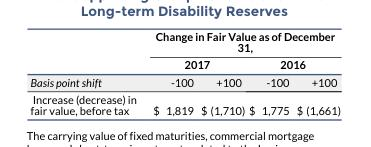table: (29, 29, 339, 116)
table column: (29, 29, 144, 116), (144, 29, 196, 116), (196, 29, 246, 116), (292, 29, 339, 116), (246, 29, 292, 116)
table column header: (29, 29, 339, 89)
table row: (29, 89, 339, 116), (29, 29, 339, 55), (29, 55, 339, 72), (29, 72, 339, 89)
table spanning cell: (29, 29, 144, 89), (144, 29, 339, 55), (144, 55, 246, 72), (246, 55, 339, 72)
